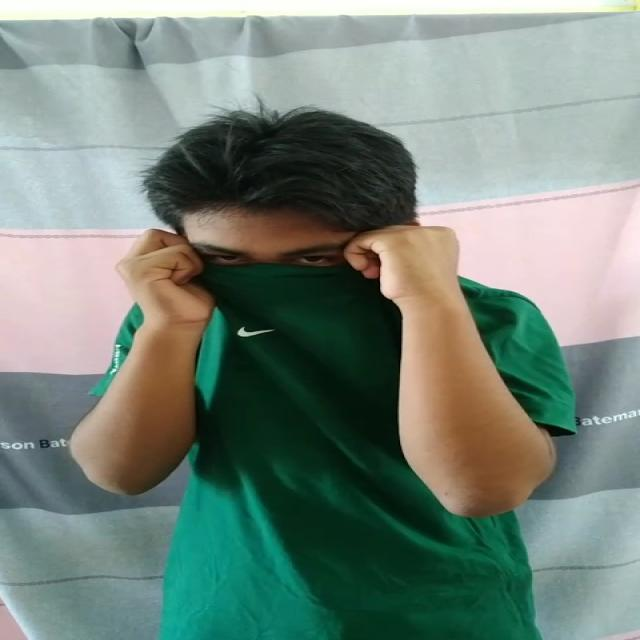8_ropa_rostro: (82, 252, 450, 358)
